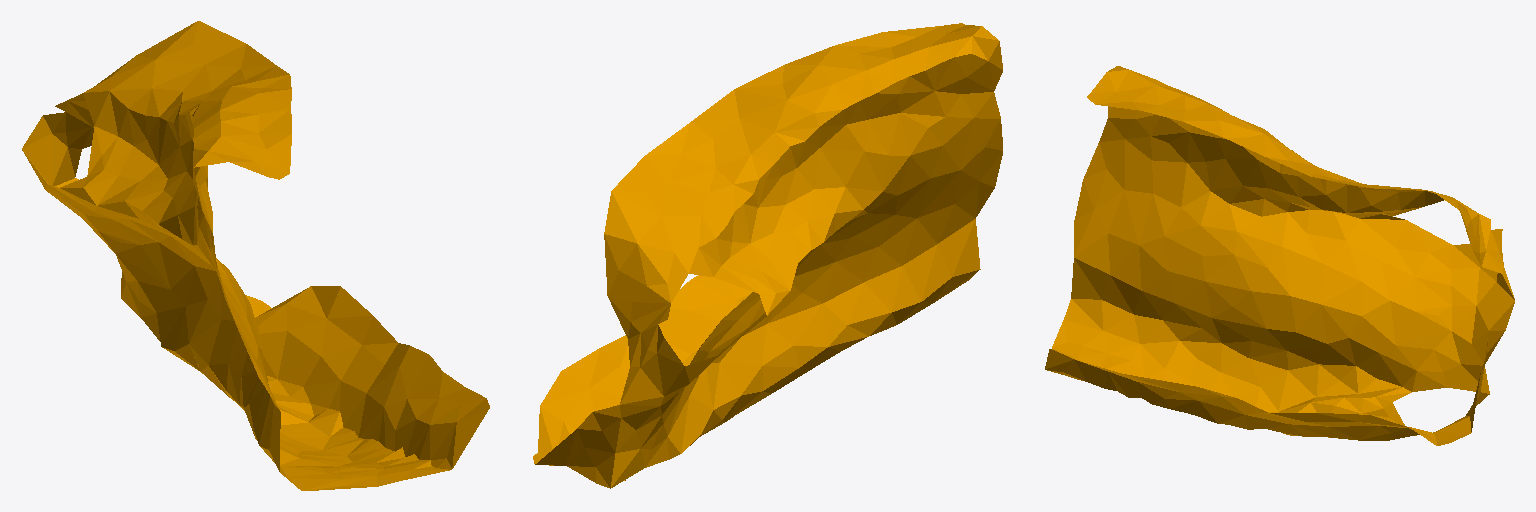
URDF robot description (init):
<?xml version='1.0' encoding='utf-8'?>
<robot name="init">
<link name="link_0"><inertial><mass value="1.0" /><origin rpy="0 0 0" xyz="0.000000 0.000000 0.000000" /><inertia ixx="1.0" ixy="0.0" ixz="0.0" iyy="1.0" iyz="0.0" izz="1.0" /></inertial><visual><origin rpy="0 0 0" xyz="0.000000 0.000000 0.000000" /><geometry><mesh filename="./clothHuman/cloth/402.obj" /></geometry></visual><collision><origin rpy="0 0 0" xyz="0.000000 0.000000 0.000000" /><geometry><mesh filename="./clothHuman/cloth/402.obj" /></geometry></collision></link></robot>

--- Render facts (derived) ---
The picture shows the robot from 3 angles, left to right: view 1: azimuth 30°, elevation 25°; view 2: azimuth 150°, elevation 25°; view 3: azimuth 270°, elevation 25°; orthographic projection.
Robot: init — 1 links, 0 joints (none); root link link_0; default pose: all joints at 0.
Links seen in each view (by area): view 1: link_0; view 2: link_0; view 3: link_0.
Link boxes in pixels (left/top/right/bottom): link_0: left=22, top=21, right=489, bottom=490; link_0: left=533, top=23, right=1002, bottom=488; link_0: left=1045, top=66, right=1514, bottom=445.
Size in the robot's own frame: 2.17 by 3.79 by 2.64 metres.
Meshes: 1 distinct files referenced, 1 mesh visuals loaded (1 OBJ).